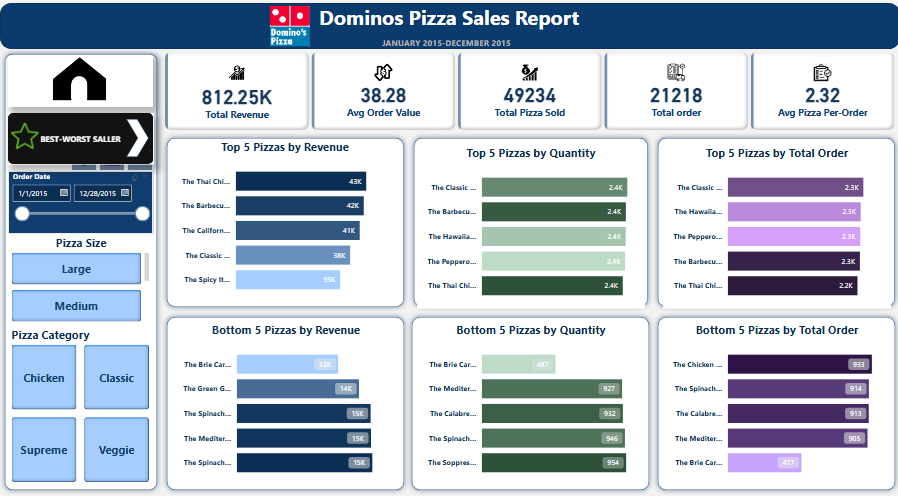

Layout of this report page (visuals, bound fields, positions):
{"tool":"powerbi","page":{"name":"BEST-WORST SALLER","canvas":[1500,820],"ordinal":1},"visuals":[{"type":"cardVisual","fields":{"Data":["pizza_sales.Total Revenue","pizza_sales.Avg Order Value","pizza_sales.Total Pizza Sold","pizza_sales.Total order","pizza_sales.Avg Pizza Per-Order"]},"box":[270,76.7,1230,140],"z":0},{"type":"shape","box":[0,0,1500,76.7],"z":1000},{"type":"textbox","title":"Dominos Pizza Sales Report","box":[526.7,0,446.7,51.7],"z":2000},{"type":"textbox","box":[631.7,51.7,236.7,35],"z":3000},{"type":"image","box":[440,0,86.7,76.7],"z":4000},{"type":"shape","box":[270,216.7,411.7,298.3],"z":5000},{"type":"shape","box":[0,76.7,270,743.3],"z":6000},{"type":"advancedSlicerVisual","title":"Pizza Category","fields":{"Values":["pizza_sales.pizza_category"]},"box":[13.8,538.8,241.9,266.2],"z":7000},{"type":"slicer","fields":{"Values":["pizza_sales.order_date"]},"box":[12.5,280,241.9,105],"z":8000},{"type":"shape","box":[681.7,216.7,406.7,298.3],"z":9000},{"type":"shape","box":[1088.3,216.7,411.7,298.3],"z":10000},{"type":"shape","box":[270,515,411.7,305],"z":11000},{"type":"shape","box":[1088.3,515,411.7,305],"z":12000},{"type":"shape","box":[678.3,515,411.7,305],"z":13000},{"type":"barChart","title":"Top 5 Pizzas by Revenue","fields":{"Category":["pizza_sales.pizza_name"],"Y":["pizza_sales.Total Revenue"]},"box":[285,226.7,380,273.3],"z":14000},{"type":"advancedSlicerVisual","title":"Pizza Size","fields":{"Values":["pizza_sales.pizza_size"]},"box":[13.1,385,241.9,153.8],"z":15000},{"type":"barChart","title":"Bottom 5 Pizzas by Revenue","fields":{"Category":["pizza_sales.pizza_name"],"Y":["pizza_sales.Total Revenue"]},"box":[286.7,531.7,380,273.3],"z":16000},{"type":"barChart","title":"Top 5 Pizzas by Quantity","fields":{"Category":["pizza_sales.pizza_name"],"Y":["Sum(pizza_sales.quantity)"]},"box":[695,236.7,380,273.3],"z":17000},{"type":"barChart","title":"Top 5 Pizzas by Total Order","fields":{"Category":["pizza_sales.pizza_name"],"Y":["pizza_sales.Total order"]},"box":[1105,236.7,380,273.3],"z":18000},{"type":"barChart","title":"Bottom 5 Pizzas by Quantity","fields":{"Category":["pizza_sales.pizza_name"],"Y":["Sum(pizza_sales.quantity)"]},"box":[695,531.7,380,273.3],"z":19000},{"type":"barChart","title":"Bottom 5 Pizzas by  Total Order","fields":{"Category":["pizza_sales.pizza_name"],"Y":["pizza_sales.Total order"]},"box":[1105,531.7,380,273.3],"z":20000},{"type":"pageNavigator","box":[12.9,87.2,242.1,85.6],"z":20001},{"type":"pageNavigator","box":[12.5,182.5,242.5,85.6],"z":20002},{"type":"shape","box":[88.8,89.4,88.8,72.5],"z":20003},{"type":"shape","box":[119.1,121.3,27.7,51.1],"z":20004},{"type":"shape","box":[210,193.8,38.1,63.8],"z":20005},{"type":"image","box":[13.8,193.8,56.2,56.2],"z":20006}]}

Visuals, with their boxes in screenshot pixels (x1, y1, x2, y2), scaled from the page's 1500x820 canvas onto the 898x496 screenshot:
cardVisual - pizza_sales.Total Revenue x pizza_sales.Avg Order Value: [x1=162, y1=46, x2=897, y2=131]
shape: [x1=0, y1=0, x2=897, y2=46]
"Dominos Pizza Sales Report" textbox: [x1=315, y1=0, x2=583, y2=31]
textbox: [x1=378, y1=31, x2=520, y2=52]
image: [x1=263, y1=0, x2=315, y2=46]
shape: [x1=162, y1=131, x2=408, y2=312]
shape: [x1=0, y1=46, x2=162, y2=495]
"Pizza Category" advancedSlicerVisual: [x1=8, y1=326, x2=153, y2=487]
slicer - pizza_sales.order_date: [x1=7, y1=169, x2=152, y2=233]
shape: [x1=408, y1=131, x2=652, y2=312]
shape: [x1=652, y1=131, x2=897, y2=312]
shape: [x1=162, y1=312, x2=408, y2=495]
shape: [x1=652, y1=312, x2=897, y2=495]
shape: [x1=406, y1=312, x2=653, y2=495]
"Top 5 Pizzas by Revenue" barChart: [x1=171, y1=137, x2=398, y2=302]
"Pizza Size" advancedSlicerVisual: [x1=8, y1=233, x2=153, y2=326]
"Bottom 5 Pizzas by Revenue" barChart: [x1=172, y1=322, x2=399, y2=487]
"Top 5 Pizzas by Quantity" barChart: [x1=416, y1=143, x2=644, y2=308]
"Top 5 Pizzas by Total Order" barChart: [x1=662, y1=143, x2=889, y2=308]
"Bottom 5 Pizzas by Quantity" barChart: [x1=416, y1=322, x2=644, y2=487]
"Bottom 5 Pizzas by  Total Order" barChart: [x1=662, y1=322, x2=889, y2=487]
pageNavigator: [x1=8, y1=53, x2=153, y2=105]
pageNavigator: [x1=7, y1=110, x2=153, y2=162]
shape: [x1=53, y1=54, x2=106, y2=98]
shape: [x1=71, y1=73, x2=88, y2=104]
shape: [x1=126, y1=117, x2=149, y2=156]
image: [x1=8, y1=117, x2=42, y2=151]
